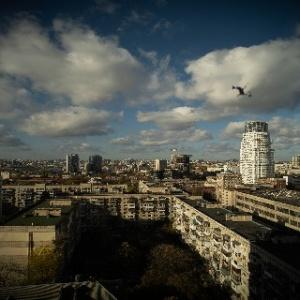drone: (220, 68, 265, 113)
